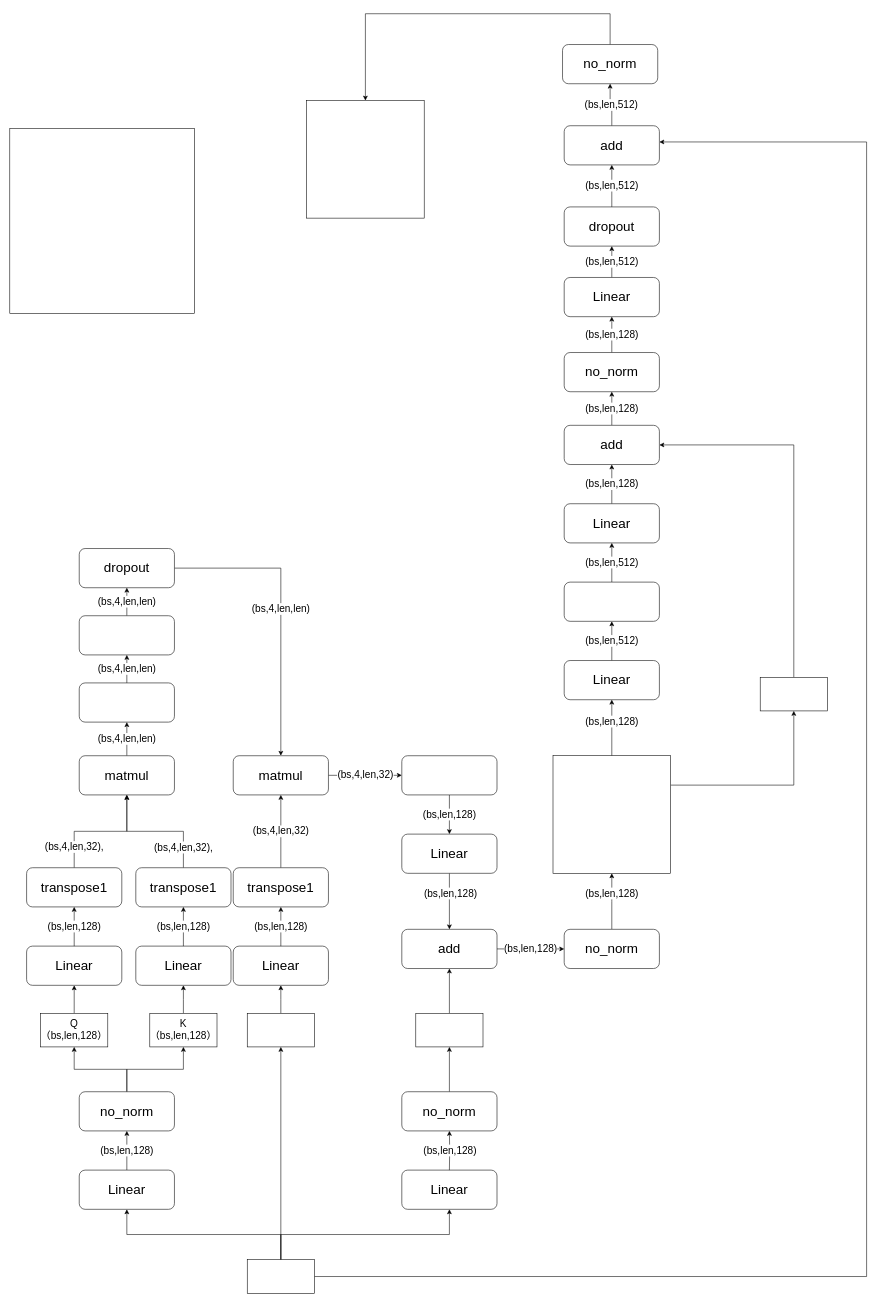
The diagram is 881 pixels wide and 1303 high, and some of its shapes have lost their labels. Here are the shapes that lost their labels. From the top down, the centre of each, then its label:
[365,159]: classifier
[102,220]: Encoder
[611,601]: Relu
[126,635]: softmax
[126,702]: div
[793,694]: RES3 （bs,len,128）
[449,775]: transpose2
[611,814]: FFN *(m-1)
[280,1030]: V （bs,len,512）
[449,1030]: RES2 （bs,len,128）
[280,1276]: 输入向量 （bs,len,512）
